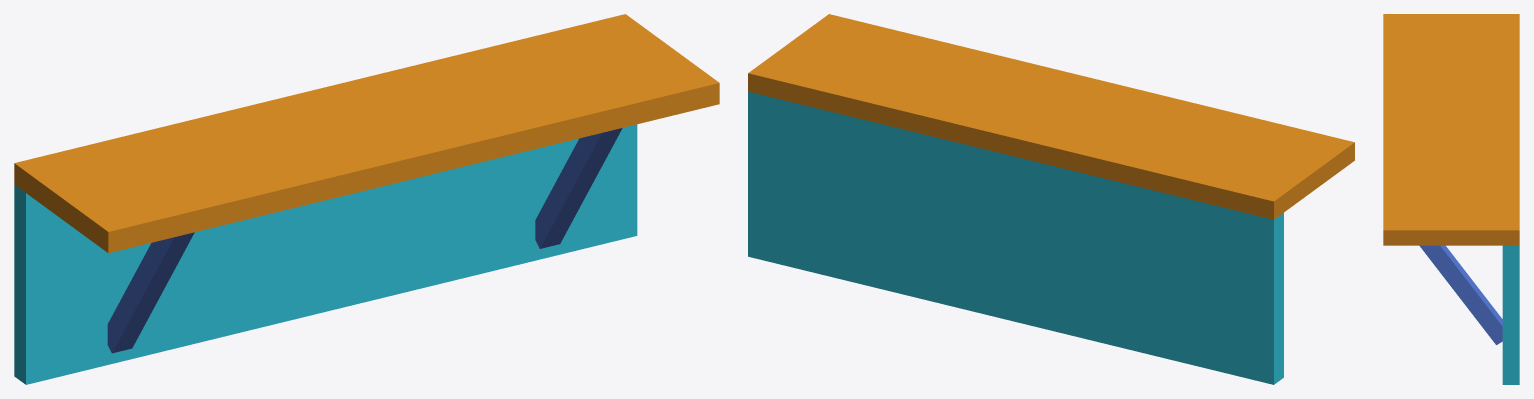
Rendered from table1_3m_08m_1m.fbx.
3 views of the same model, side by side, from view 1: azimuth 30°, elevation 25°; view 2: azimuth 150°, elevation 25°; view 3: azimuth 270°, elevation 25° (orthographic). The views are drawn at different scales.
Visible parts, largest first — view 1: Cube, Cube.001, Cube.002, Cube.003; view 2: Cube.001, Cube; view 3: Cube, Cube.001, Cube.002.
Part boxes in pixels (left/top/right/bottom): Cube: left=14, top=14, right=719, bottom=253; Cube.001: left=14, top=124, right=637, bottom=384; Cube.002: left=535, top=128, right=622, bottom=248; Cube.003: left=107, top=232, right=194, bottom=353; Cube.001: left=748, top=91, right=1283, bottom=384; Cube: left=748, top=14, right=1354, bottom=219; Cube: left=1383, top=14, right=1519, bottom=245; Cube.001: left=1502, top=245, right=1519, bottom=384; Cube.002: left=1419, top=245, right=1502, bottom=344.
Size of the model in its own units: 300 by 100 by 80.
